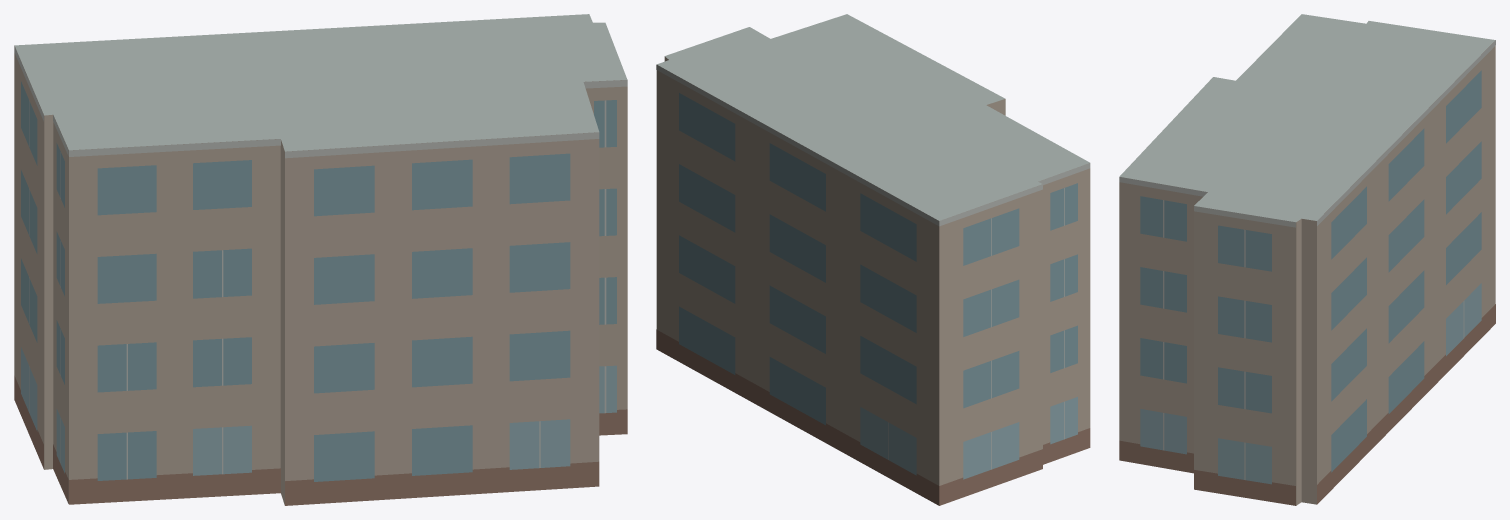
The model's file is survey-upis-32668722.glb.
3 renders of one model, left to right at view 1: azimuth 30°, elevation 25°; view 2: azimuth 150°, elevation 25°; view 3: azimuth 270°, elevation 25°, orthographic. The views are drawn at different scales.
Parts seen in each view (by area): view 1: survey-upis-32668722.tmp; view 2: survey-upis-32668722.tmp; view 3: survey-upis-32668722.tmp.
Boxes of the visible parts, x1,y1,x2,y2 form: survey-upis-32668722.tmp: (14, 14, 627, 505); survey-upis-32668722.tmp: (656, 14, 1090, 505); survey-upis-32668722.tmp: (1119, 14, 1495, 505).
Bounding box in the file's own units: 20.17 × 12.8 × 15.41.
